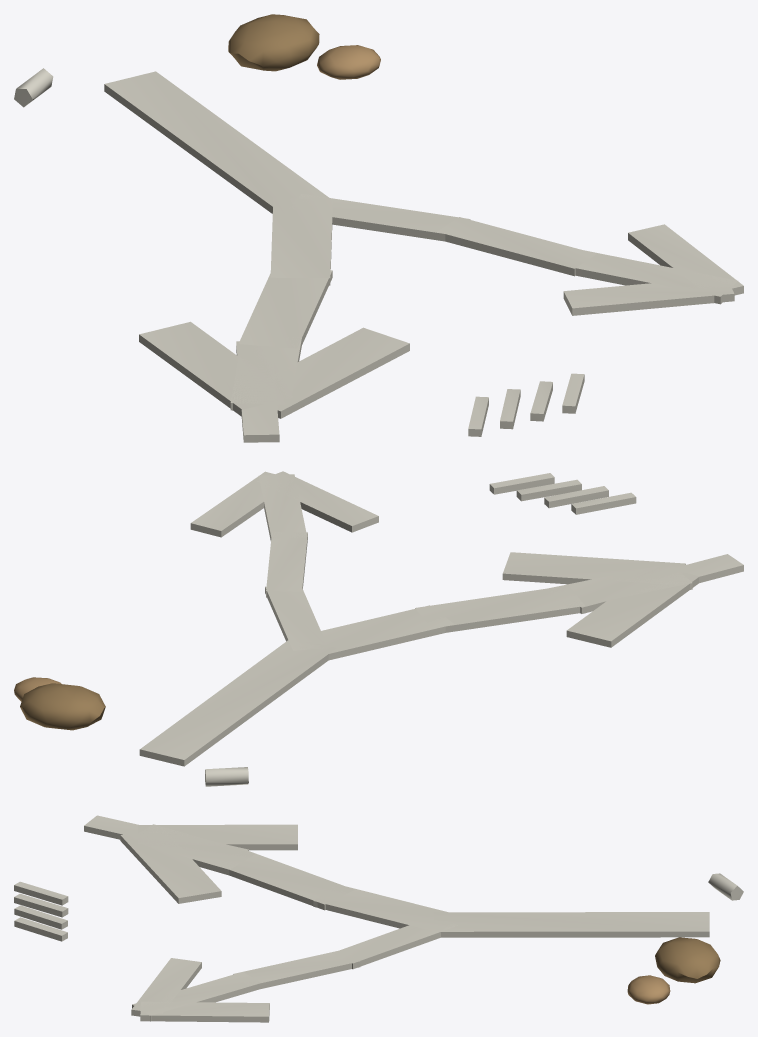
The model's file is chalk_turn_b_lod1.glb.
The picture shows the model from 3 angles, top to bottom: view 1: azimuth 30°, elevation 25°; view 2: azimuth 150°, elevation 25°; view 3: azimuth 270°, elevation 25°; orthographic projection. The views are drawn at different scales.
Visible parts, largest first — view 1: Surface.001; view 2: Surface.001; view 3: Surface.001.
Boxes of the visible parts, x1,y1,x2,y2 form: Surface.001: (14, 14, 743, 442); Surface.001: (14, 471, 743, 786); Surface.001: (14, 815, 743, 1022).
Size of the model in its own units: 3.7 by 0.3164 by 5.68.
